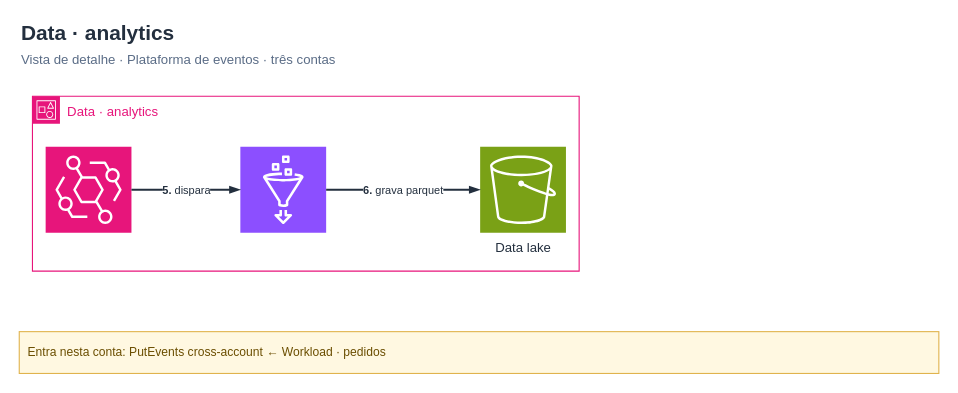
Some shapes in this 958 by 393 pixel diagram are drawn without their labels. The shapes that lost their labels are listed below. From the top down, each one's centre as x and y in pixels, then its label:
the point at 88,189: Event bus
the point at 282,189: Glue ETL
